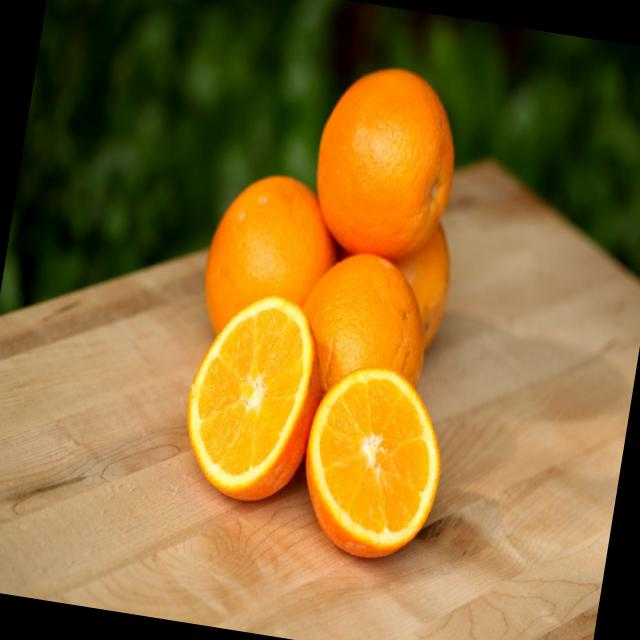orange: (290, 57, 473, 272), (190, 160, 361, 390), (275, 242, 467, 444)
